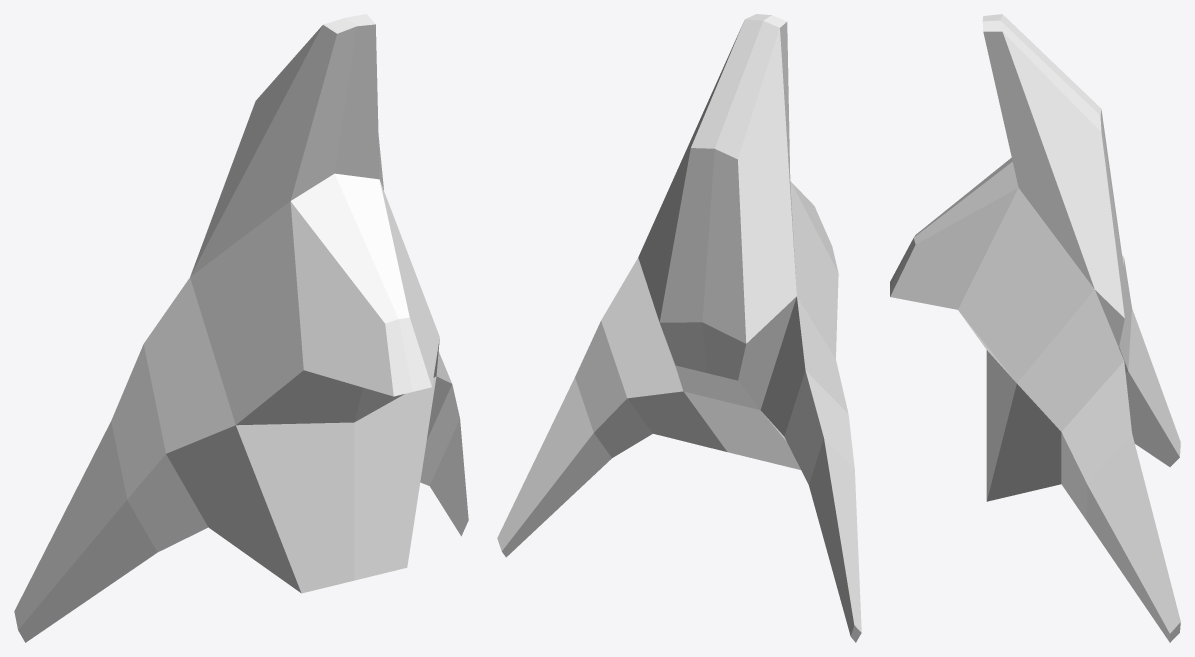
The model's file is head_10.fbx.
The picture shows the model from 3 angles, left to right: view 1: azimuth 30°, elevation 25°; view 2: azimuth 150°, elevation 25°; view 3: azimuth 270°, elevation 25°; orthographic projection. The views are drawn at different scales.
Parts seen in each view (by area): view 1: Cube.131; view 2: Cube.131; view 3: Cube.131.
Part boxes in pixels (box(x1,y1,x2,y2)): Cube.131: box(14, 14, 468, 642); Cube.131: box(497, 14, 861, 642); Cube.131: box(890, 14, 1180, 642).
Size of the model in its own units: 31.65 by 43.45 by 21.41.
